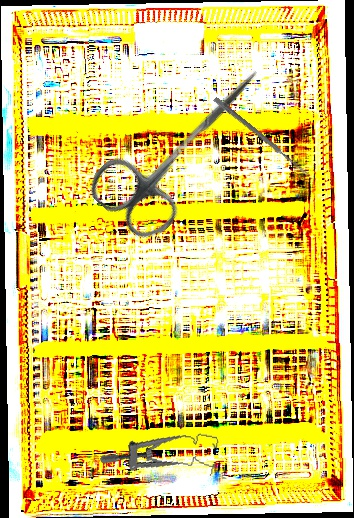Iris Scissors: (82, 39, 287, 249)
Speculum: (99, 415, 222, 487)
Surgical Spoon: (212, 96, 311, 178)
